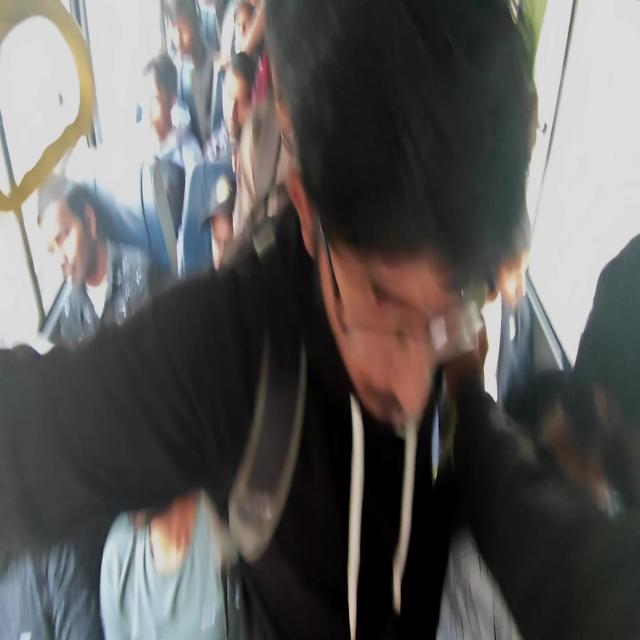person: (306, 34, 493, 428), (102, 338, 216, 550), (575, 254, 640, 526), (32, 194, 100, 298), (489, 190, 532, 311), (208, 187, 258, 279), (221, 55, 268, 148), (143, 60, 181, 151), (167, 0, 201, 56), (231, 12, 264, 64)
